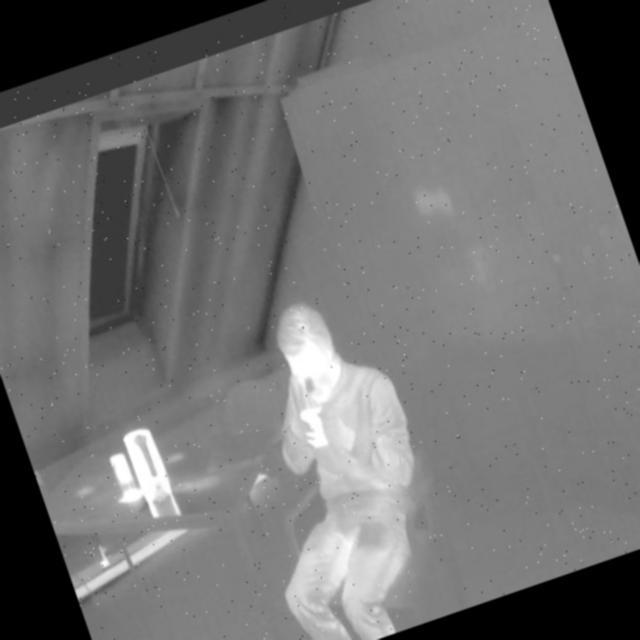person: (189, 286, 473, 640)
